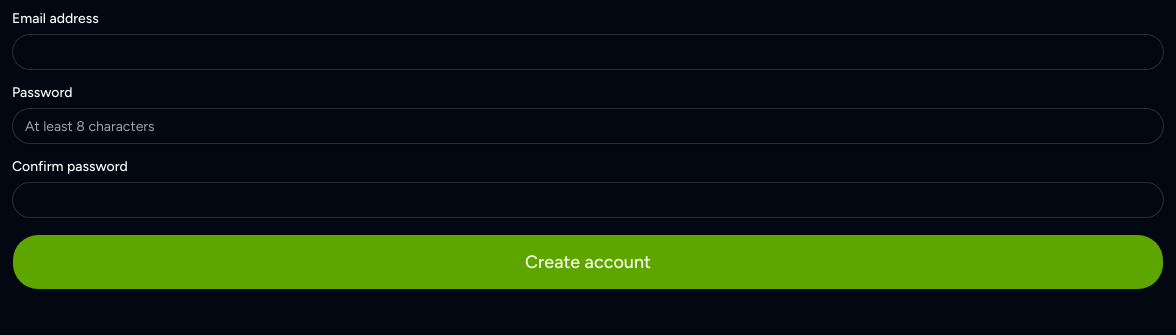
Test case: SignupForm - Integration Tests › shows error when passwords do not match
Note: Fill form with mismatched passwords
Type "test@example.com" into the field labelled "Email address" at (588, 52), box [12,34,1164,70]
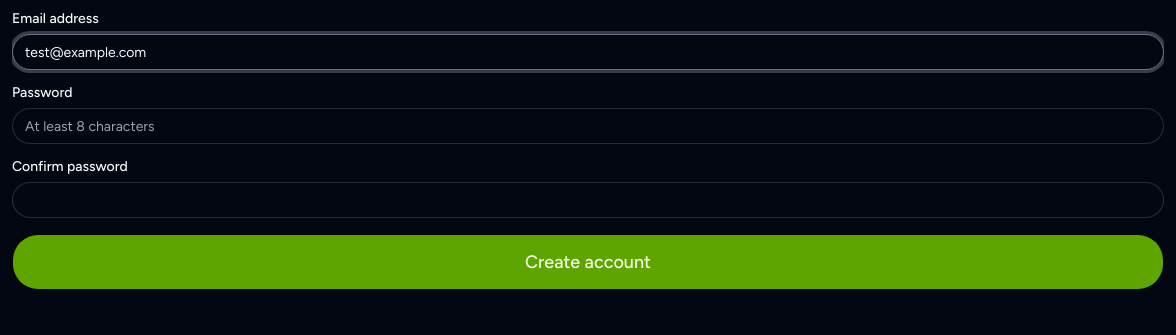
Type "password123" into the password field labelled "Password" at (588, 126), box [12,108,1164,144]
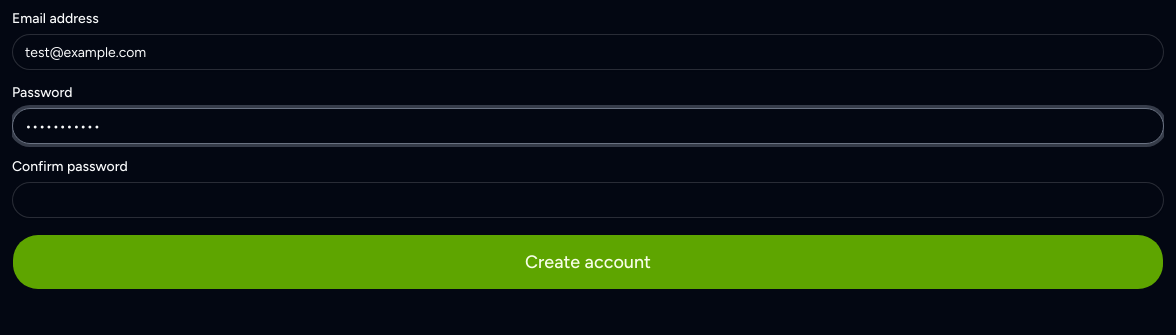
Type "different123" into the password field labelled "Confirm password" at (588, 200), box [12,182,1164,218]
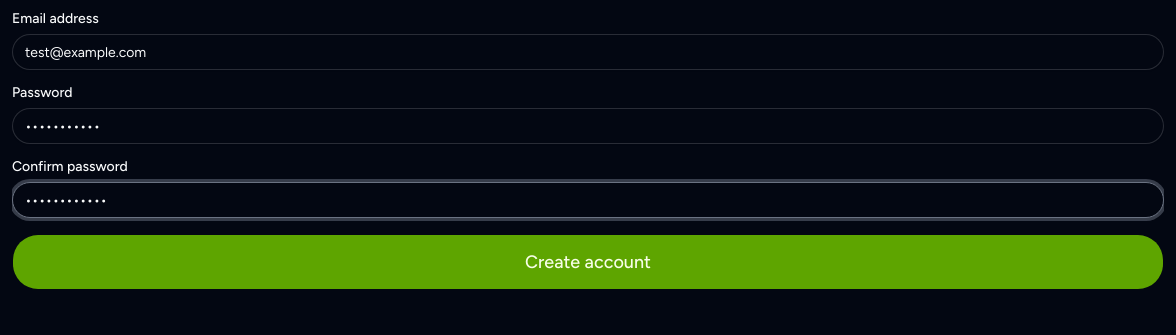
Click the button "Create account" at (588, 262), box [12,234,1164,290]
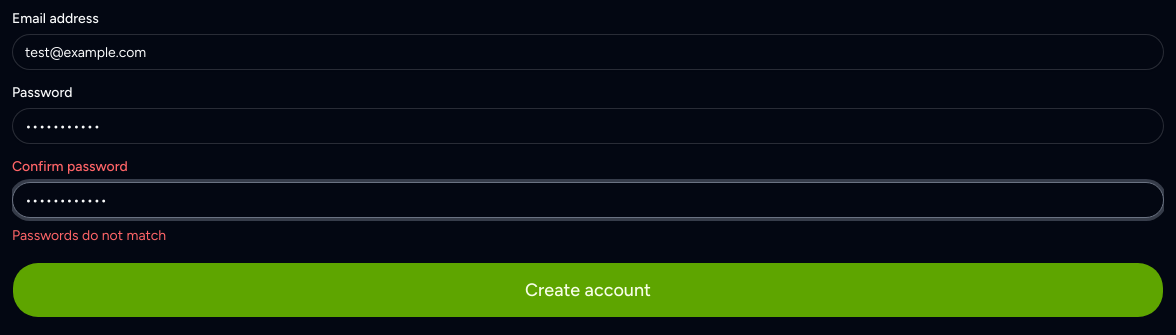
Expected: the button "Create account" is enabled, [12,262,1164,318]
Now the text "Passwords do not match" is shown, box [12,227,166,244]
